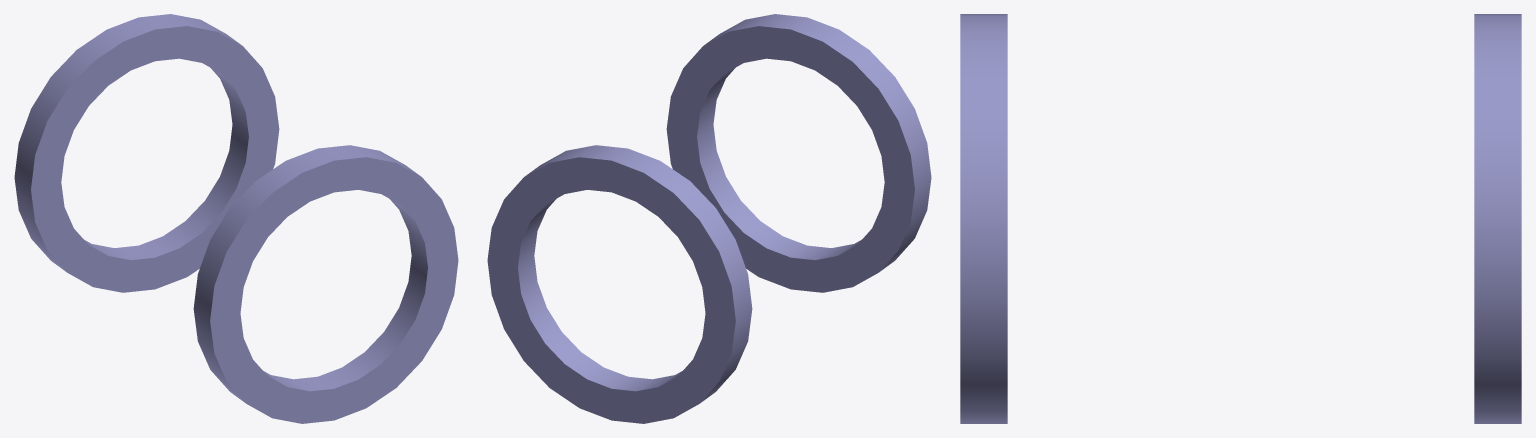
The model's file is DCDownBPipeFlange.gltf.
The picture shows the model from 3 angles, left to right: view 1: azimuth 30°, elevation 25°; view 2: azimuth 150°, elevation 25°; view 3: azimuth 270°, elevation 25°; orthographic projection. The views are drawn at different scales.
Parts seen in each view (by area): view 1: logicDCDownBPipeFlange_pv0x2234da8, logicDCDownBPipeFlange_pv0x2234d70; view 2: logicDCDownBPipeFlange_pv0x2234d70, logicDCDownBPipeFlange_pv0x2234da8; view 3: logicDCDownBPipeFlange_pv0x2234d70, logicDCDownBPipeFlange_pv0x2234da8.
Part boxes in pixels (left/top/right/bottom): logicDCDownBPipeFlange_pv0x2234da8: left=193, top=145, right=458, bottom=423; logicDCDownBPipeFlange_pv0x2234d70: left=14, top=14, right=279, bottom=292; logicDCDownBPipeFlange_pv0x2234d70: left=487, top=145, right=752, bottom=423; logicDCDownBPipeFlange_pv0x2234da8: left=666, top=14, right=931, bottom=292; logicDCDownBPipeFlange_pv0x2234d70: left=1474, top=14, right=1521, bottom=423; logicDCDownBPipeFlange_pv0x2234da8: left=960, top=14, right=1007, bottom=423.
Bounding box in the file's own units: 20.24 × 20.24 × 27.61.
